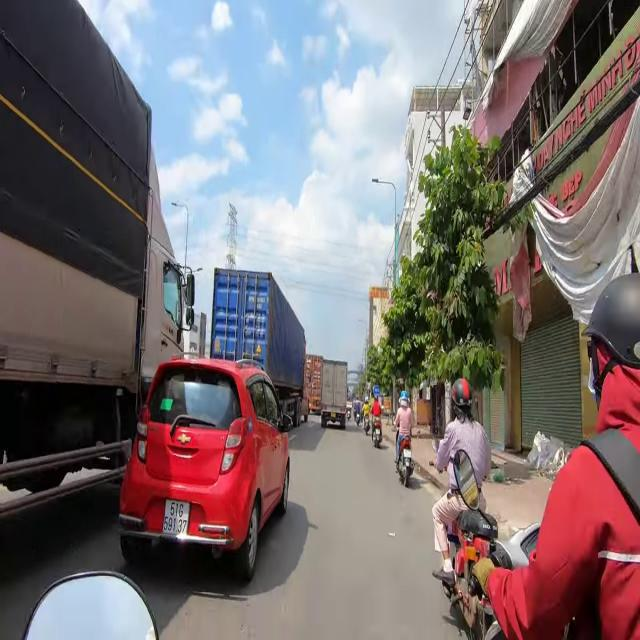bien_trang: (163, 496, 191, 540)
